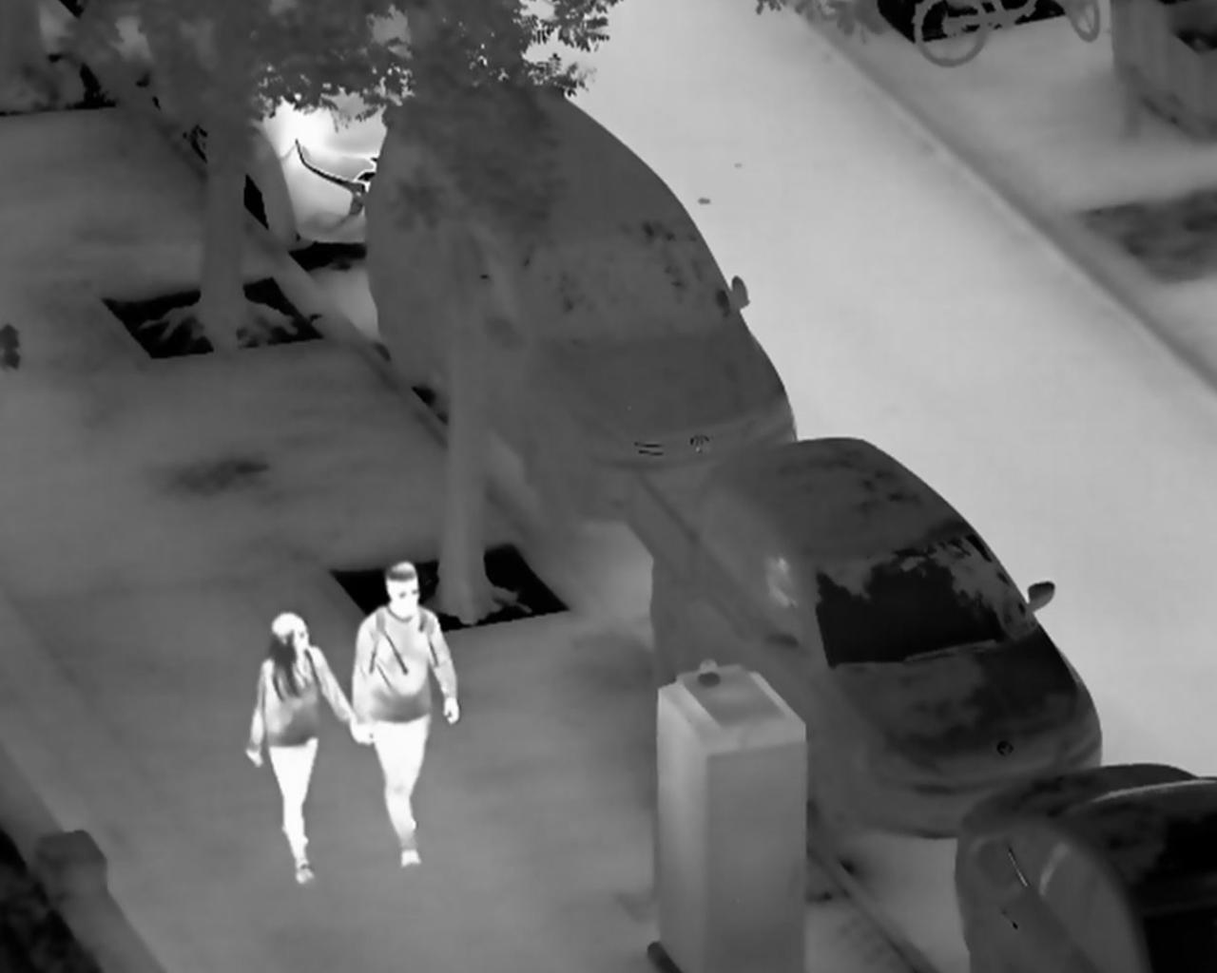person: (351, 559, 463, 870), (240, 605, 357, 887)
